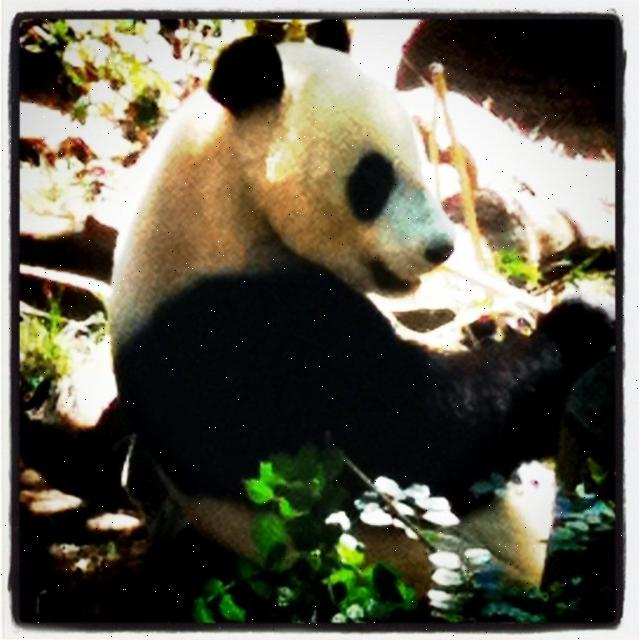panda: (105, 19, 619, 629)
